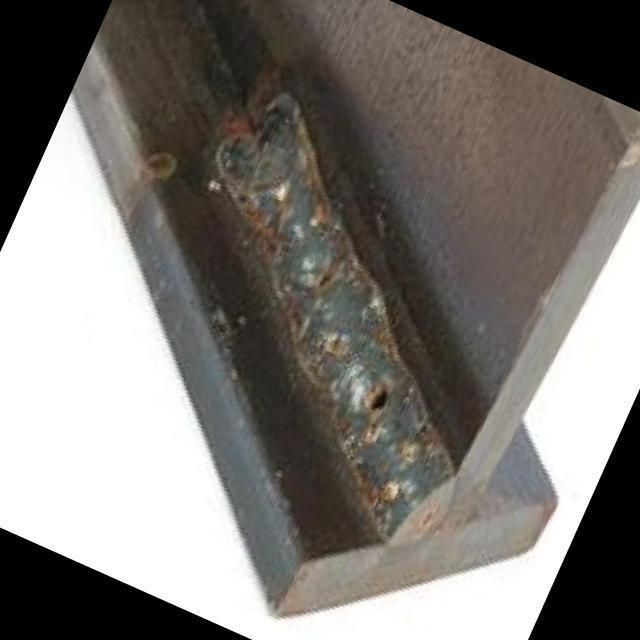defect: (366, 383, 393, 419)
